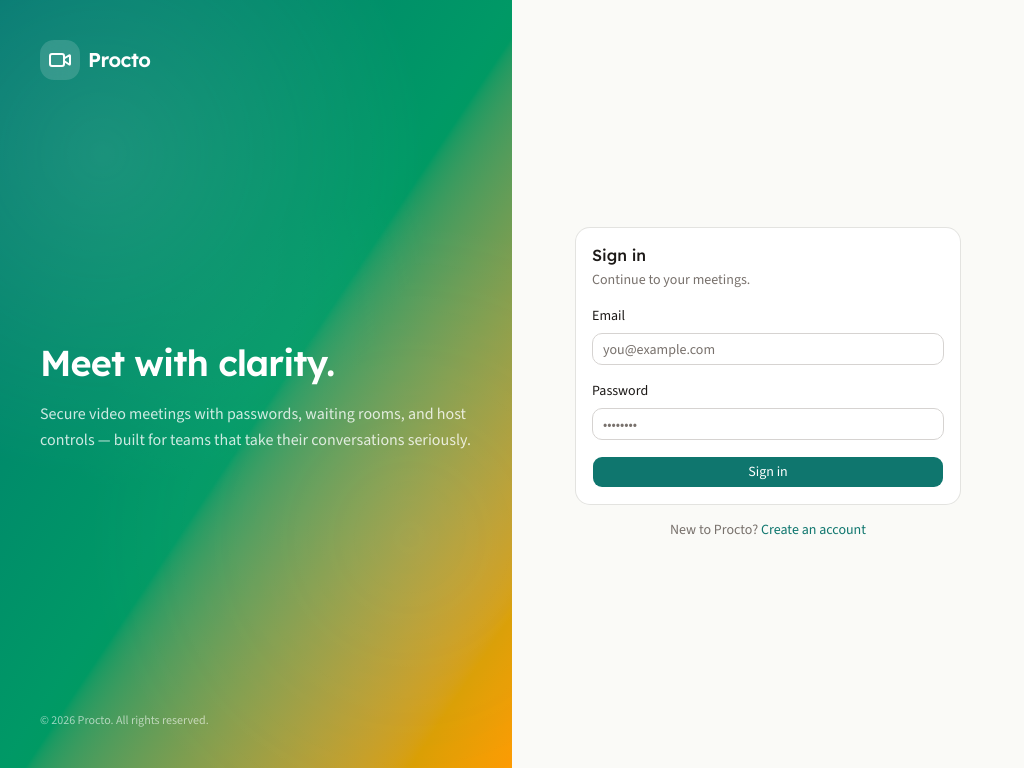
Test: LoginPage › surfaces the backend error message on failed sign-in
The width and height of the screenshot is (1024, 768).
Type "hasan@example.com" into the field labelled "Email". click: (768, 349)
box: [592,333,944,365]
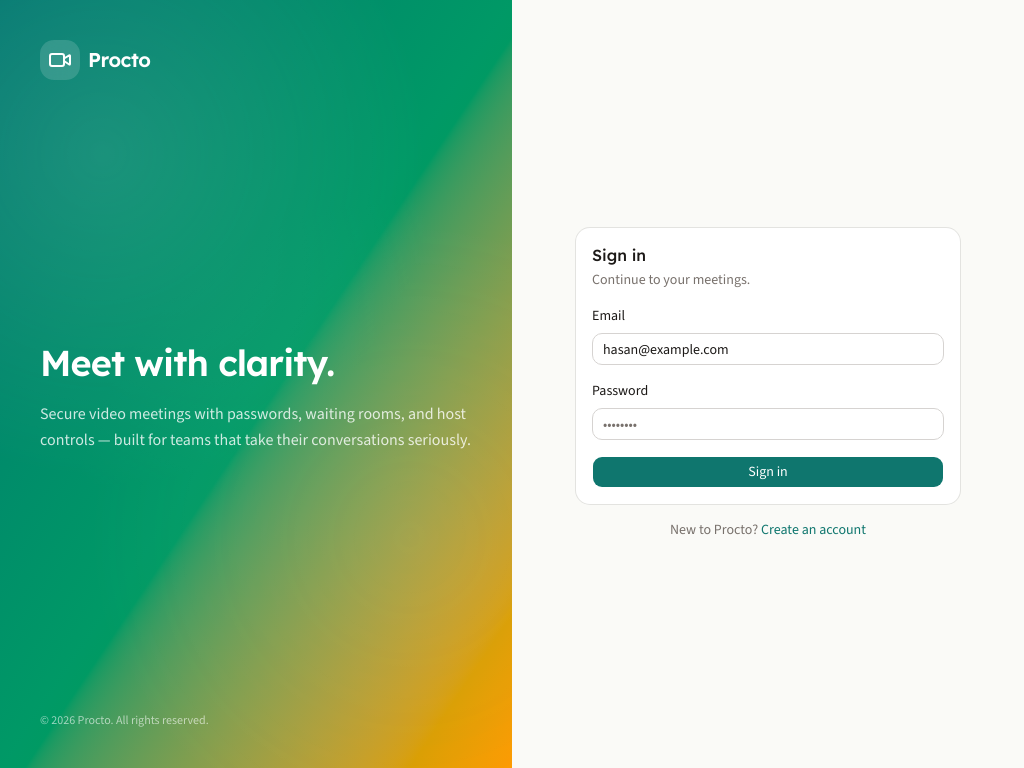
Type "wrong-pass" into the password field labelled "Password". click: (768, 424)
box: [592,408,944,440]
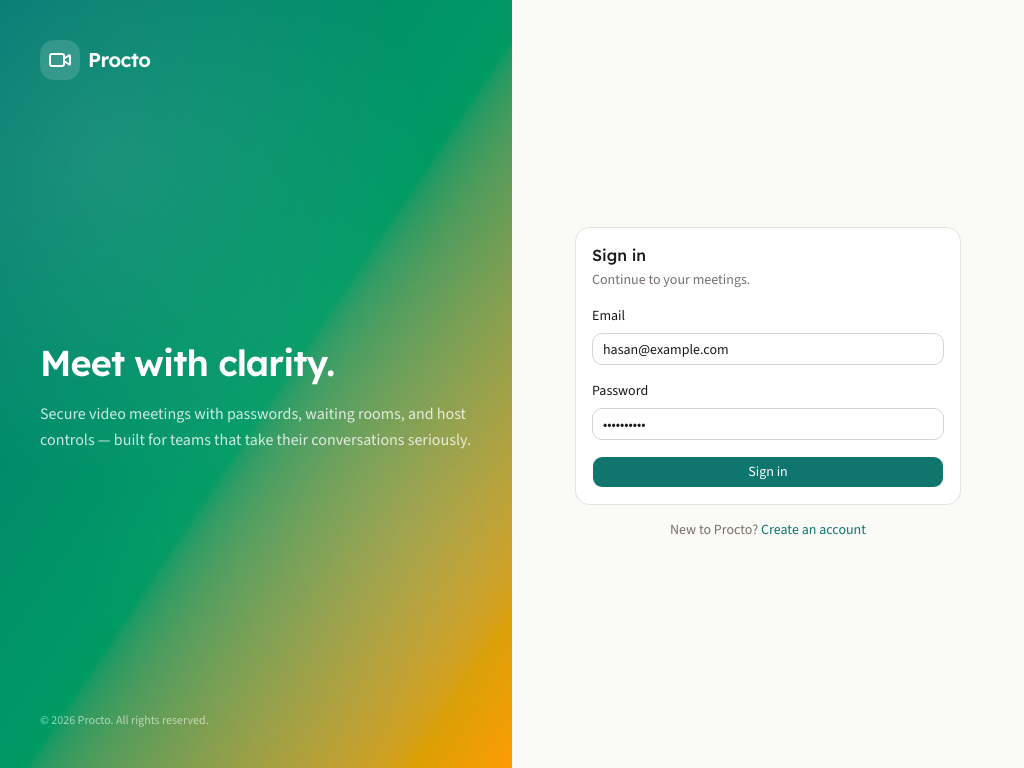
Click the button "Sign in". click: (768, 472)
box: [592,456,944,488]
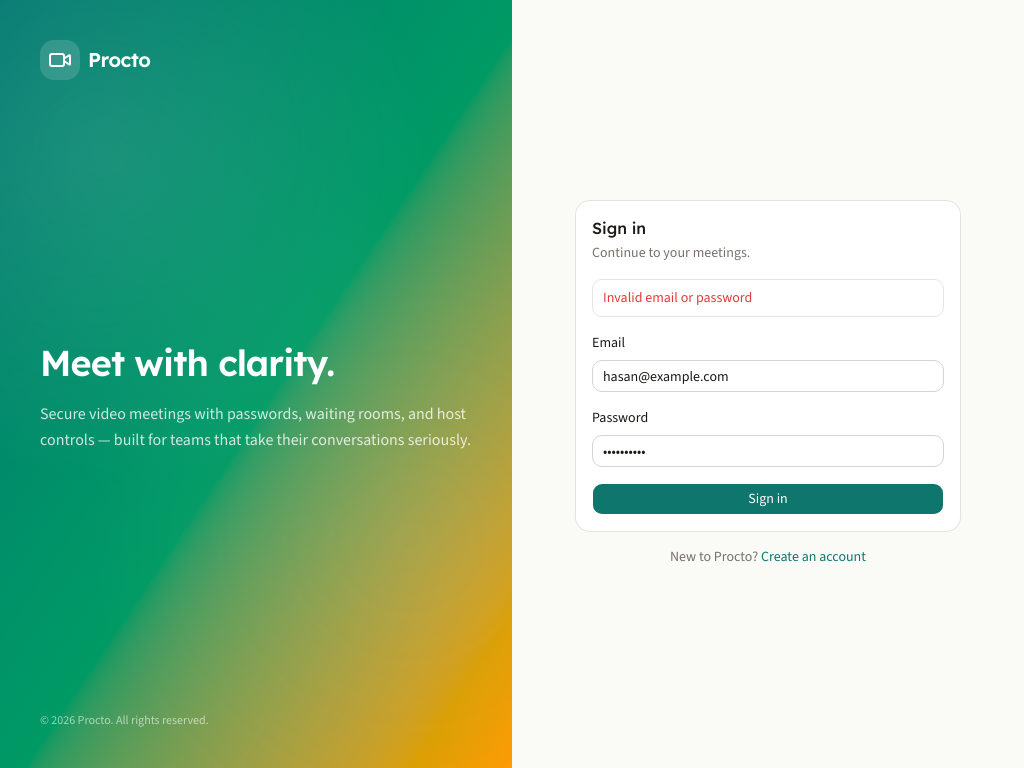
Expected: the button "Sign in" is enabled, [592,483,944,515]
Expected: the text "Invalid email or password" is shown, [603,288,752,307]
